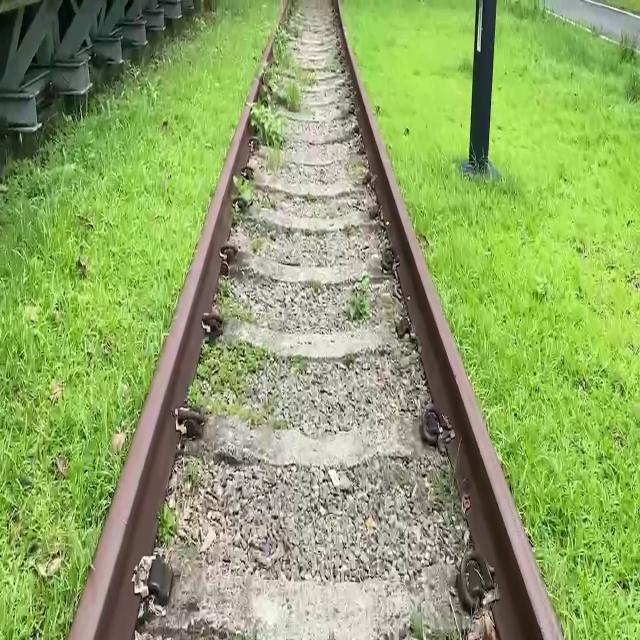rail-track: (131, 0, 475, 640)
